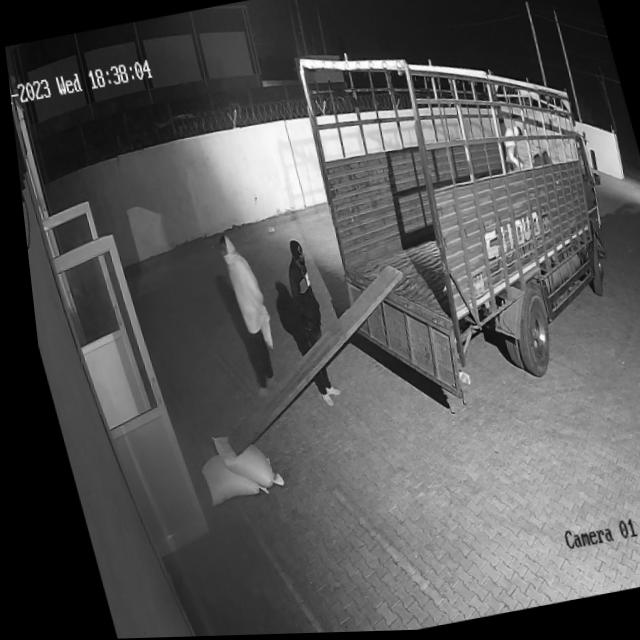sack: (199, 425, 274, 499), (187, 447, 259, 507)
